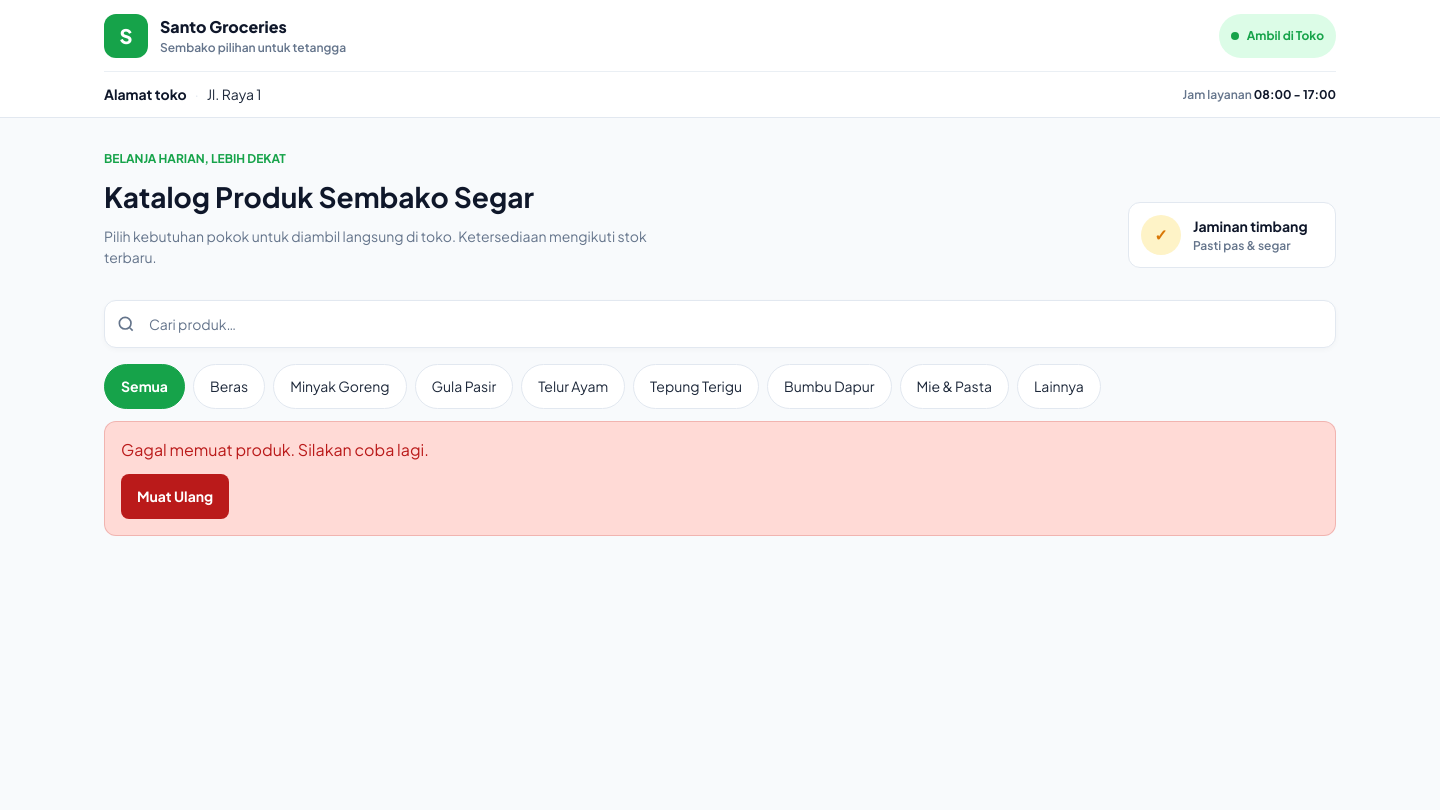
Test: CatalogPage › shows error banner with retry
Click the button "Muat Ulang": coordinates (175, 496) [121,474,229,519]
(page scrolled)
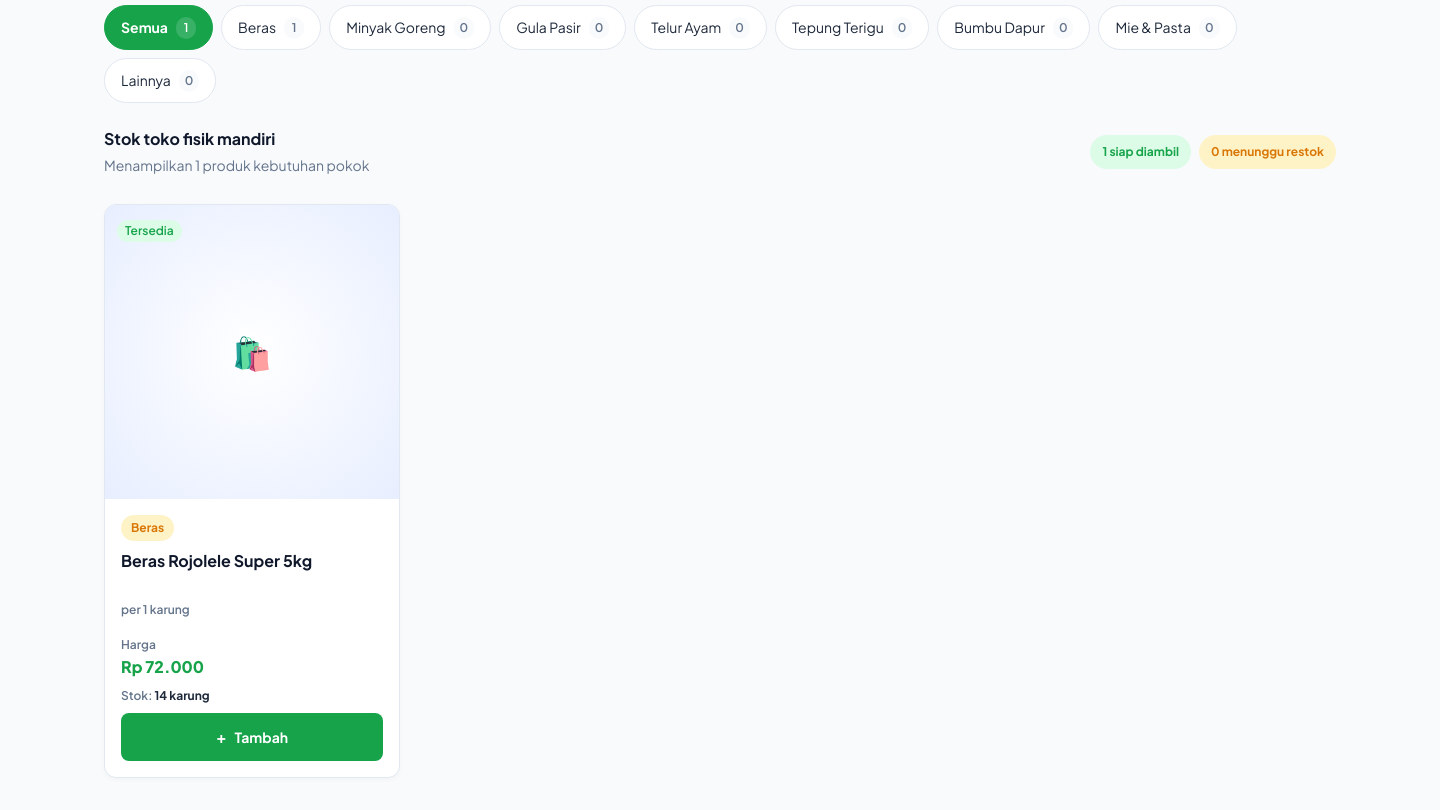
Check: the element with test id "product-card-p1" is shown, box [104,204,400,778]
